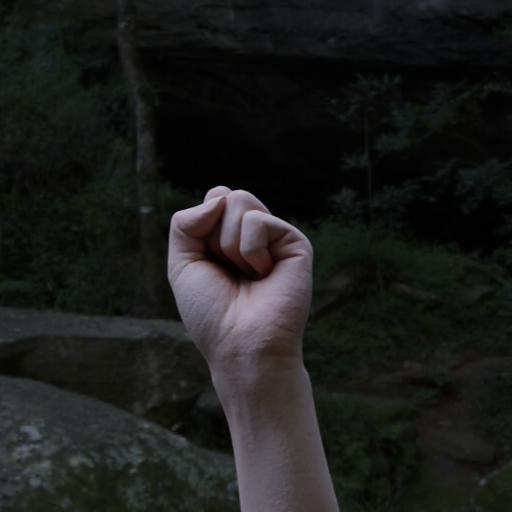S: (162, 182, 316, 368)
